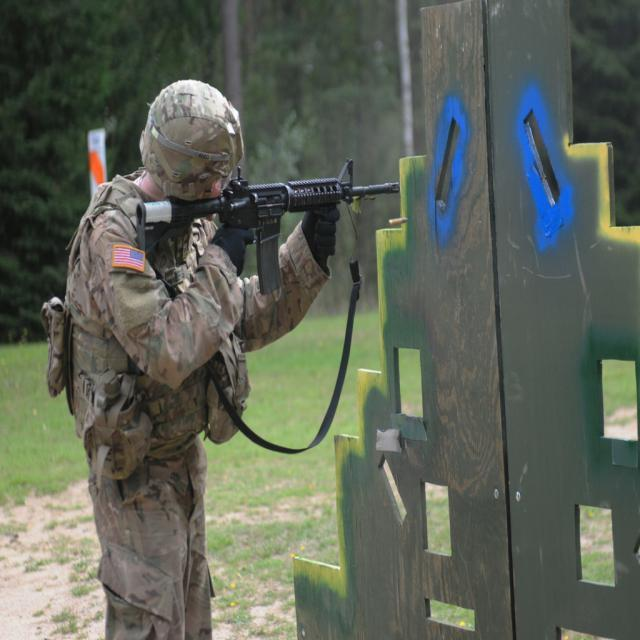weapon: (164, 154, 420, 275)
